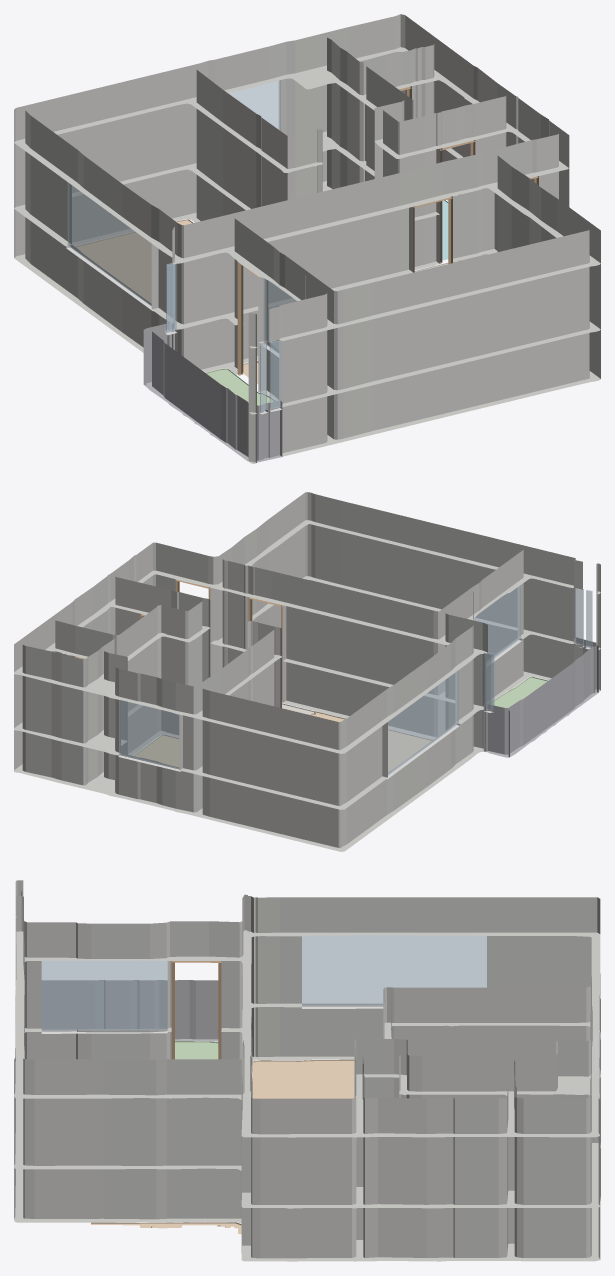
3 renders of one model, top to bottom at view 1: azimuth 30°, elevation 25°; view 2: azimuth 150°, elevation 25°; view 3: azimuth 270°, elevation 25°, orthographic. The views are drawn at different scales.
Parts seen in each view (by area): view 1: walls, railings, window_6, floor_4_Living_Room, window_5, window_9, window_11, floor_0_Outdoor, window_8, door_4, window_7; view 2: walls, railings, window_6, window_5, window_9, floor_4_Living_Room, floor_1_Kitchen, floor_0_Outdoor, window_11, window_7, window_8; view 3: walls, window_6, window_9, railings, floor_4_Living_Room, door_4, floor_0_Outdoor, floor_2_Living_Room.
Part boxes in pixels (x1=…): walls: x1=14, y1=14, x2=600, y2=463; railings: x1=143, y1=323, x2=282, y2=462; window_6: x1=67, y1=182, x2=154, y2=306; floor_4_Living_Room: x1=75, y1=219, x2=192, y2=303; window_5: x1=228, y1=79, x2=280, y2=130; window_9: x1=263, y1=277, x2=297, y2=353; window_11: x1=269, y1=340, x2=281, y2=408; floor_0_Outdoor: x1=206, y1=368, x2=275, y2=405; window_8: x1=166, y1=264, x2=176, y2=332; door_4: x1=237, y1=262, x2=258, y2=375; window_7: x1=166, y1=263, x2=174, y2=330; walls: x1=14, y1=492, x2=600, y2=851; railings: x1=483, y1=637, x2=598, y2=757; window_6: x1=385, y1=670, x2=458, y2=776; window_5: x1=119, y1=700, x2=181, y2=768; window_9: x1=472, y1=585, x2=520, y2=658; floor_4_Living_Room: x1=310, y1=711, x2=432, y2=771; floor_1_Kitchen: x1=134, y1=735, x2=178, y2=766; floor_0_Outdoor: x1=490, y1=676, x2=547, y2=707; window_11: x1=574, y1=588, x2=583, y2=645; window_7: x1=484, y1=653, x2=492, y2=710; window_8: x1=486, y1=652, x2=494, y2=709; walls: x1=14, y1=880, x2=600, y2=1261; window_6: x1=302, y1=934, x2=486, y2=1005; window_9: x1=41, y1=960, x2=167, y2=1030; railings: x1=15, y1=980, x2=218, y2=1041; floor_4_Living_Room: x1=252, y1=1059, x2=354, y2=1098; door_4: x1=171, y1=961, x2=221, y2=1059; floor_0_Outdoor: x1=175, y1=1041, x2=218, y2=1059; floor_2_Living_Room: x1=91, y1=1222, x2=241, y2=1234.
Size of the model in its own units: 8.09 by 2.72 by 9.01.
